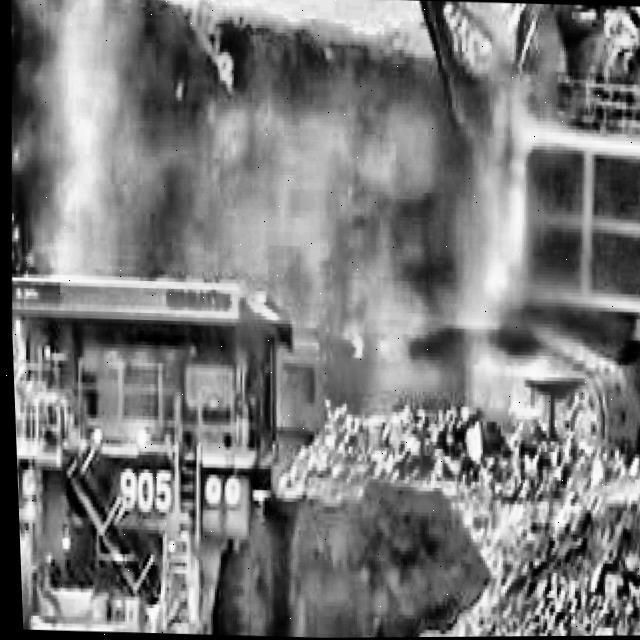dump_truck: (8, 264, 328, 639)
excavator: (1, 0, 640, 299)
